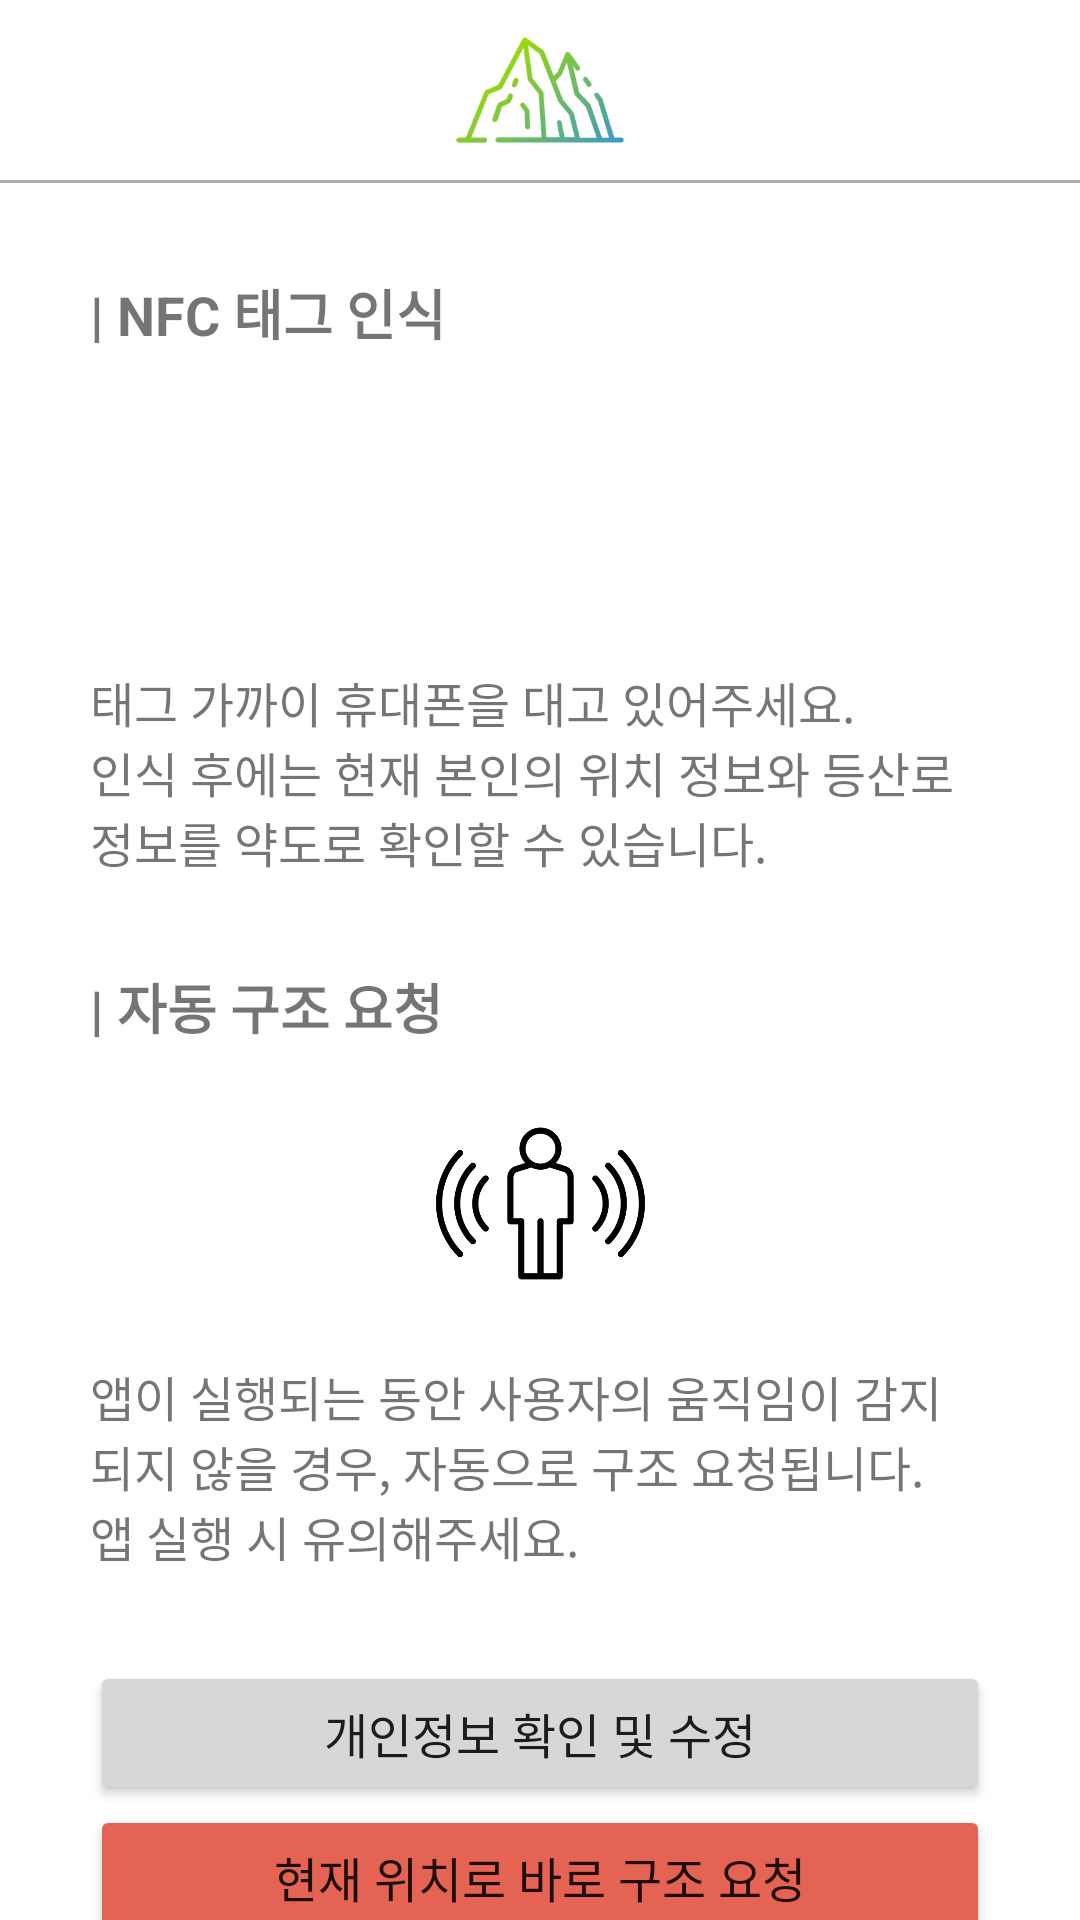

Icons on this 1080px x 1920px Android screen, each with its box as (x1, y1, x2, y2):
motion: (436, 1127, 645, 1280)
mountain: (456, 37, 624, 143)
